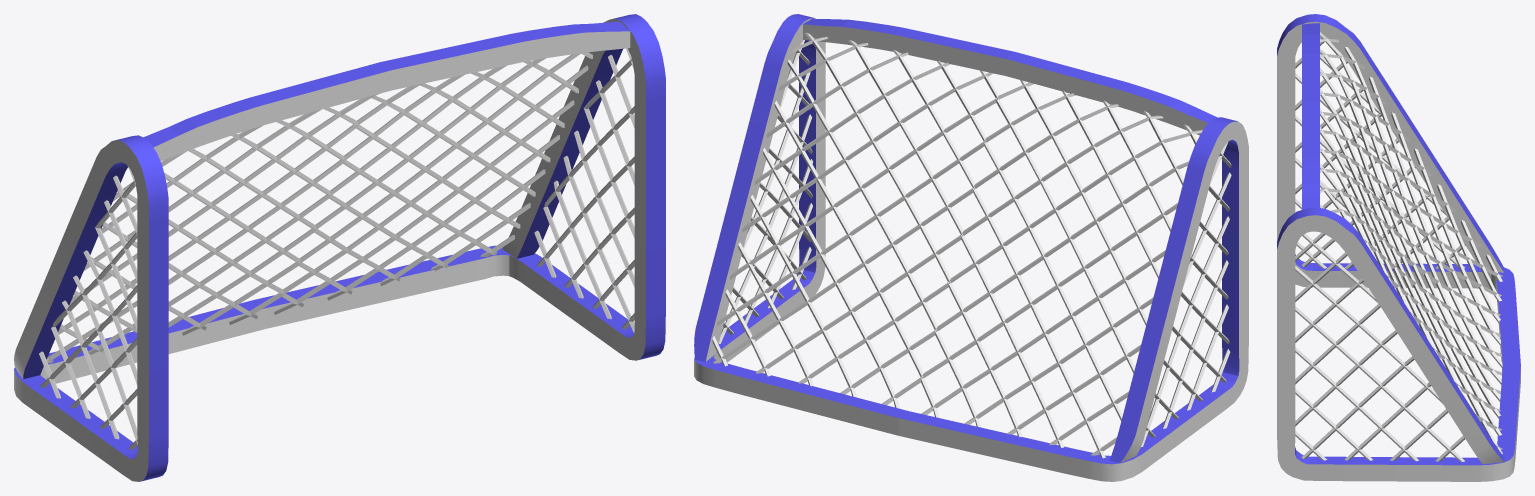
The model's file is Goalgate C.fbx.
3 views of the same model, side by side, from view 1: azimuth 30°, elevation 25°; view 2: azimuth 150°, elevation 25°; view 3: azimuth 270°, elevation 25° (orthographic). The views are drawn at different scales.
Visible parts, largest first — view 1: Goalgate C; view 2: Goalgate C; view 3: Goalgate C.
Boxes of the visible parts, left/top/right/bottom form: Goalgate C: left=14, top=14, right=665, bottom=481; Goalgate C: left=694, top=14, right=1248, bottom=481; Goalgate C: left=1277, top=14, right=1520, bottom=481.
Bounding box in the file's own units: 457 × 296 × 234.
